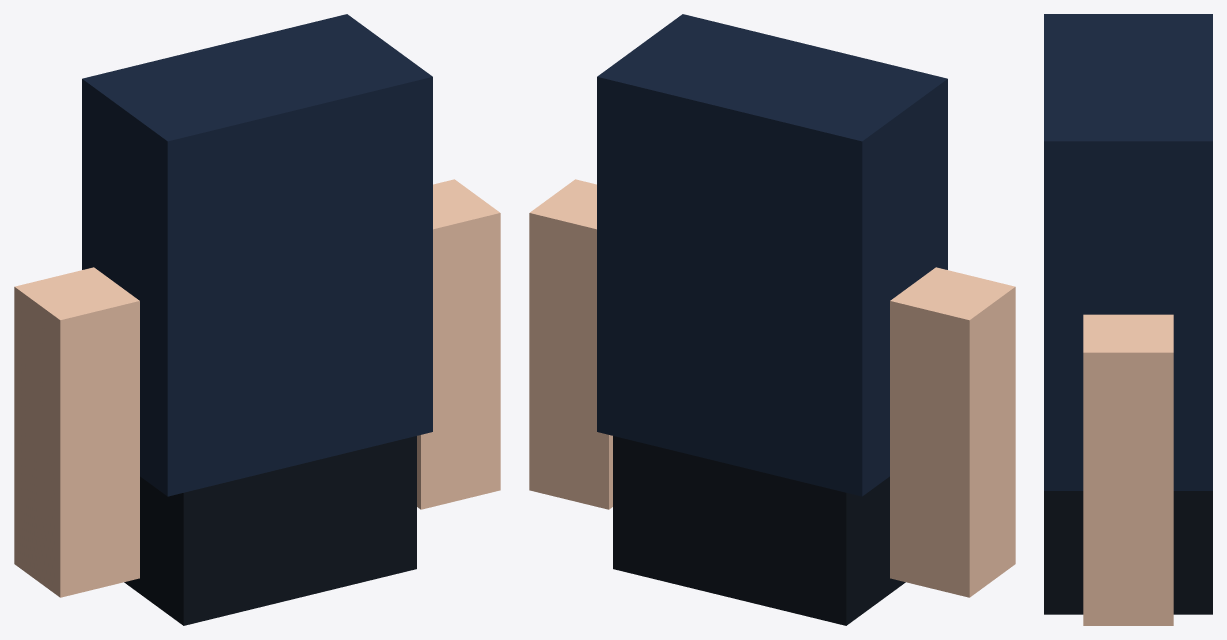
File: tc_msh_l1.glb
3 views of the same model, side by side, from view 1: azimuth 30°, elevation 25°; view 2: azimuth 150°, elevation 25°; view 3: azimuth 270°, elevation 25° (orthographic).
Parts seen in each view (by area): view 1: TC Marshal_L1; view 2: TC Marshal_L1; view 3: TC Marshal_L1.
Part boxes in pixels (box(x1,y1,x2,y2)): TC Marshal_L1: box(14, 14, 500, 625); TC Marshal_L1: box(529, 14, 1015, 625); TC Marshal_L1: box(1044, 14, 1212, 625).
Size of the model in its own units: 0.83 by 0.88 by 0.28.
